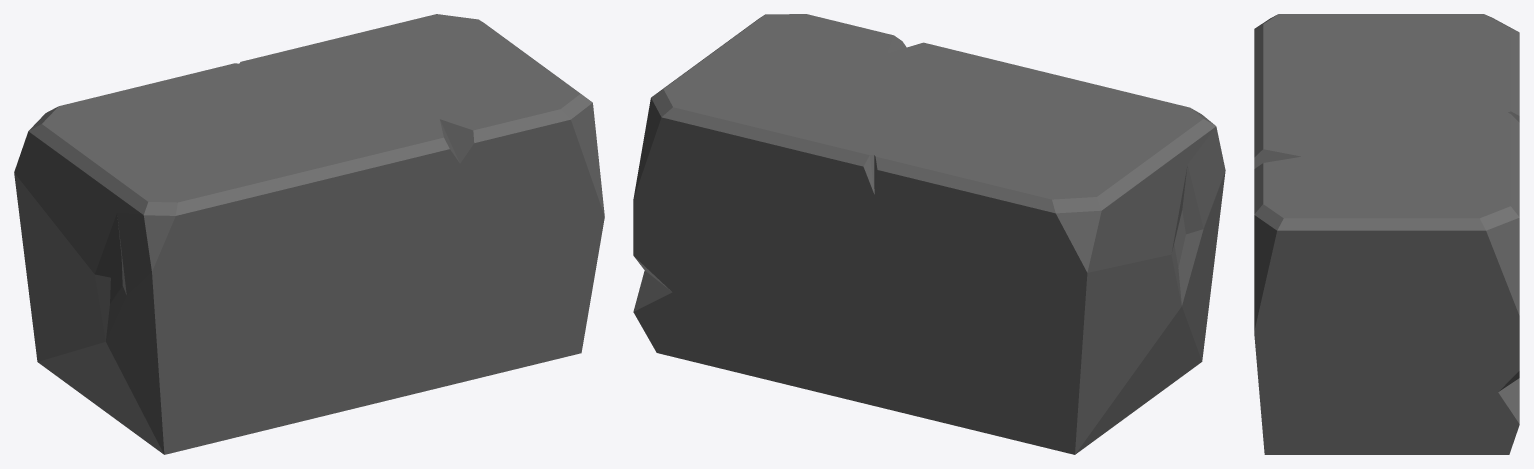
File: BlockStoneB.fbx
The picture shows the model from 3 angles, left to right: view 1: azimuth 30°, elevation 25°; view 2: azimuth 150°, elevation 25°; view 3: azimuth 270°, elevation 25°; orthographic projection. The views are drawn at different scales.
Visible parts, largest first — view 1: BlockStoneB; view 2: BlockStoneB; view 3: BlockStoneB.
Boxes of the visible parts, bbox=[...] form: BlockStoneB: bbox=[14, 14, 604, 454]; BlockStoneB: bbox=[633, 14, 1225, 454]; BlockStoneB: bbox=[1254, 14, 1519, 454].
Bounding box in the file's own units: 66.56 × 34.97 × 34.97.
